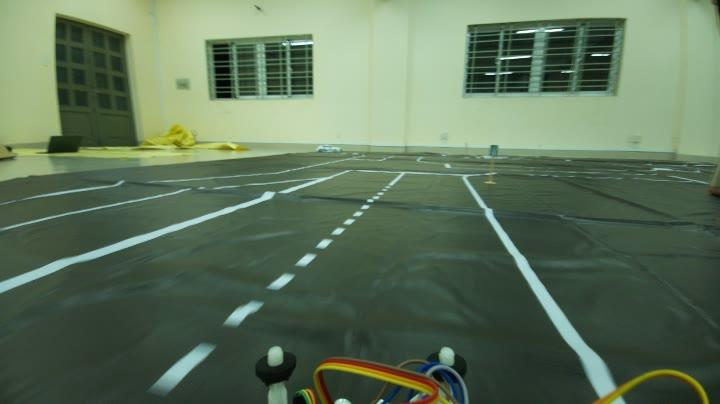highway_entry: (488, 142, 504, 160)
